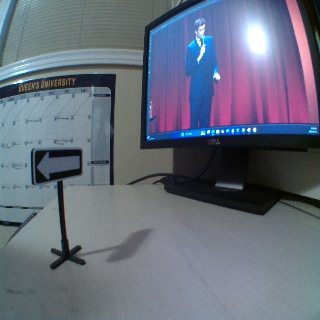sign_oneway_left: (31, 146, 83, 181)
